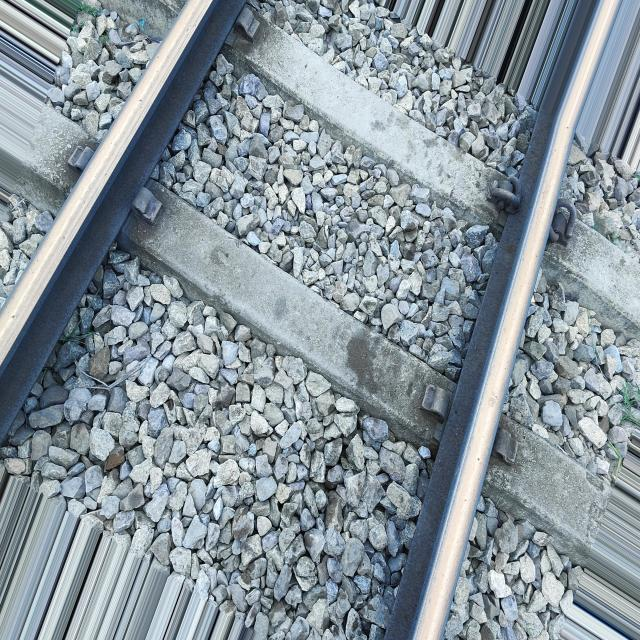Good Fasteners: (549, 199, 576, 246), (488, 181, 520, 214)
Missing Fastener: (131, 171, 182, 234), (489, 423, 526, 477), (414, 378, 449, 417), (233, 0, 259, 45)
